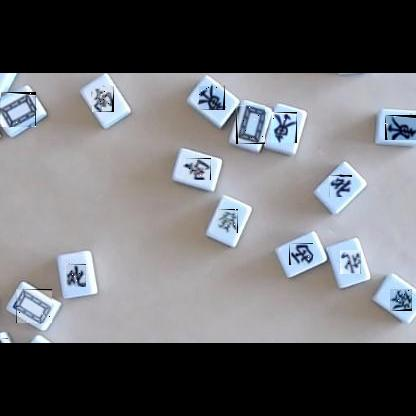1z: (271, 112, 297, 143), (385, 115, 416, 140), (199, 85, 225, 110)
2z: (184, 158, 211, 180), (92, 86, 114, 112)
3z: (289, 243, 313, 265)
4z: (329, 175, 352, 197), (340, 250, 361, 274), (65, 264, 86, 287)
5z: (0, 92, 36, 127), (16, 289, 52, 323), (236, 105, 265, 144), (0, 338, 8, 343)
6z: (217, 209, 238, 233), (390, 289, 412, 311)
